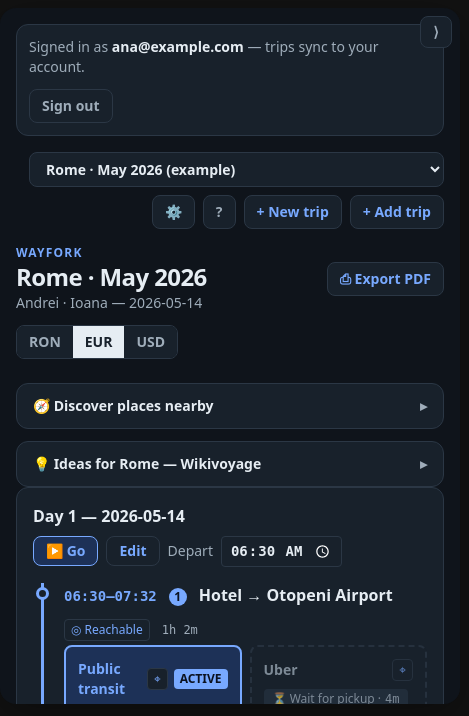
Test case: WayforkApp conflict → merge → retry wiring › bails out after bounded retries, reloads the latest, and shows the warning
Select "Shared trip (uploaded)" in the dropdown named "Shared trip" at (236, 170), box top-left (29, 152), bottom-right (444, 187)
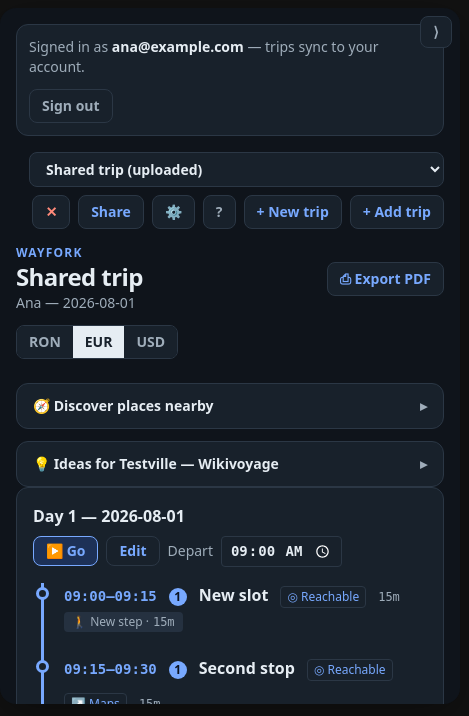
Result: the text "Second stop" is shown at top-left (199, 656), bottom-right (295, 680)
Click the button "Edit" at (133, 551), box top-left (106, 536), bottom-right (160, 566)
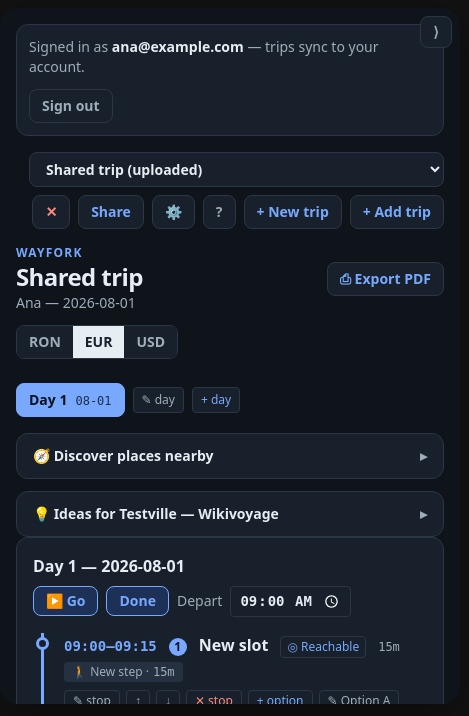
Click the button titled "Move down" at (168, 701), box top-left (156, 690), bottom-right (180, 712)
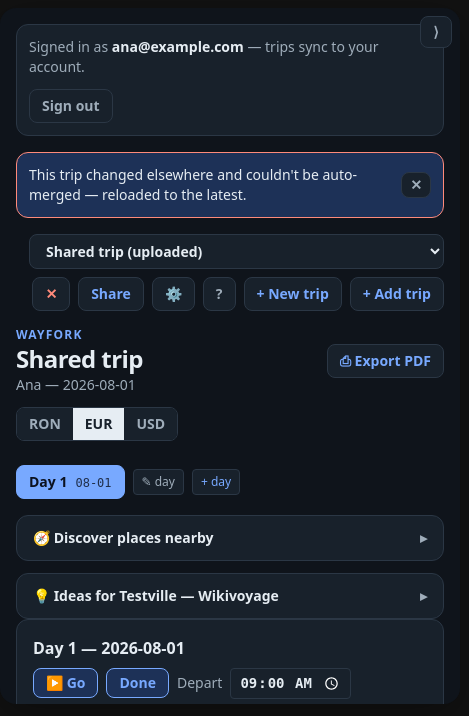
Result: the text "This trip changed elsewhere and couldn't be auto-merged — reloaded to the latest." is shown at top-left (29, 165), bottom-right (357, 204)
